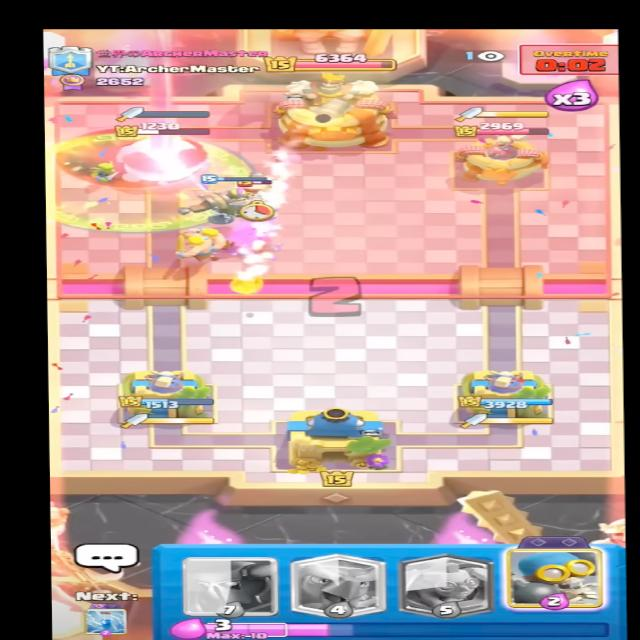fireball: (219, 266, 272, 302)
